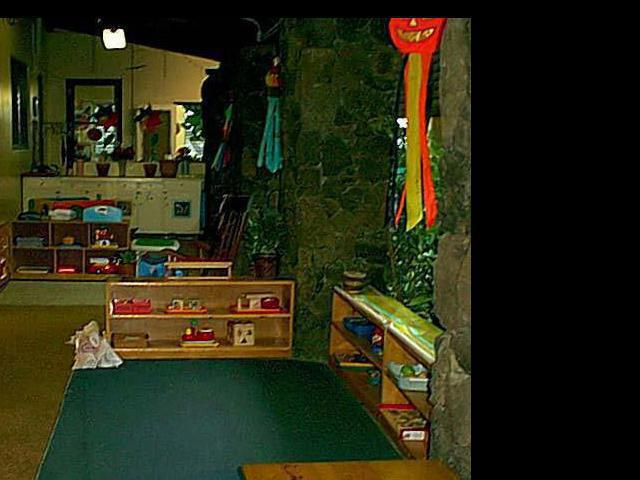Otro Obstaculo: (66, 318, 124, 374)
